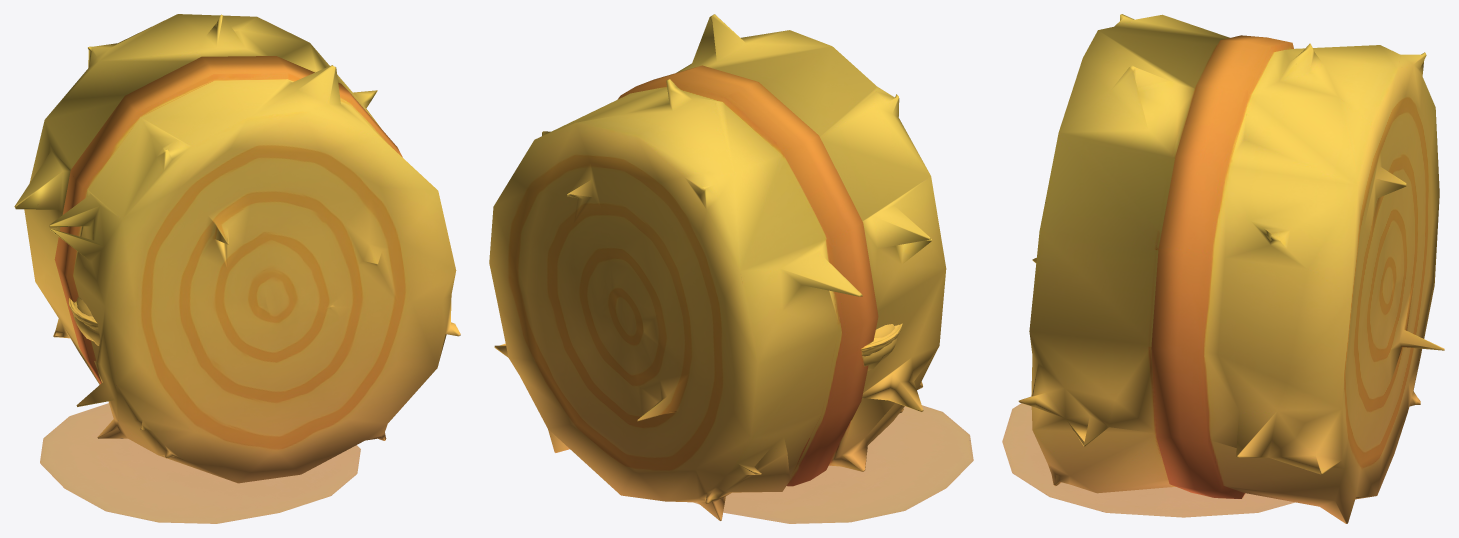
File: hay_bale.glb
3 renders of one model, left to right at view 1: azimuth 30°, elevation 25°; view 2: azimuth 150°, elevation 25°; view 3: azimuth 270°, elevation 25°, orthographic. The views are drawn at different scales.
Visible parts, largest first — view 1: tripo_node_a37bf932-13c1-4651-b2bb-3b3291517a91; view 2: tripo_node_a37bf932-13c1-4651-b2bb-3b3291517a91; view 3: tripo_node_a37bf932-13c1-4651-b2bb-3b3291517a91.
Boxes of the visible parts, x1=… form: tripo_node_a37bf932-13c1-4651-b2bb-3b3291517a91: x1=14, y1=14, x2=460, y2=523; tripo_node_a37bf932-13c1-4651-b2bb-3b3291517a91: x1=489, y1=14, x2=973, y2=523; tripo_node_a37bf932-13c1-4651-b2bb-3b3291517a91: x1=1002, y1=14, x2=1444, y2=523.
Bounding box in the file's own units: 0.998 × 0.9746 × 0.8574.
1 material, 1 textured.
